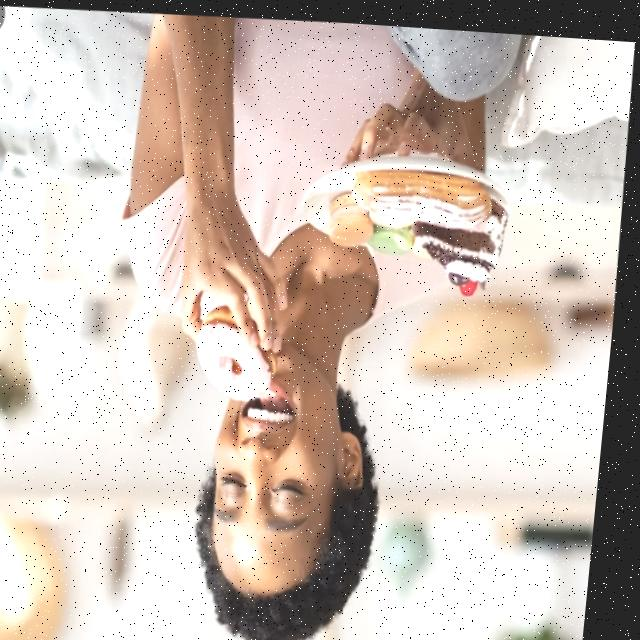eating-person: (76, 6, 541, 640)
